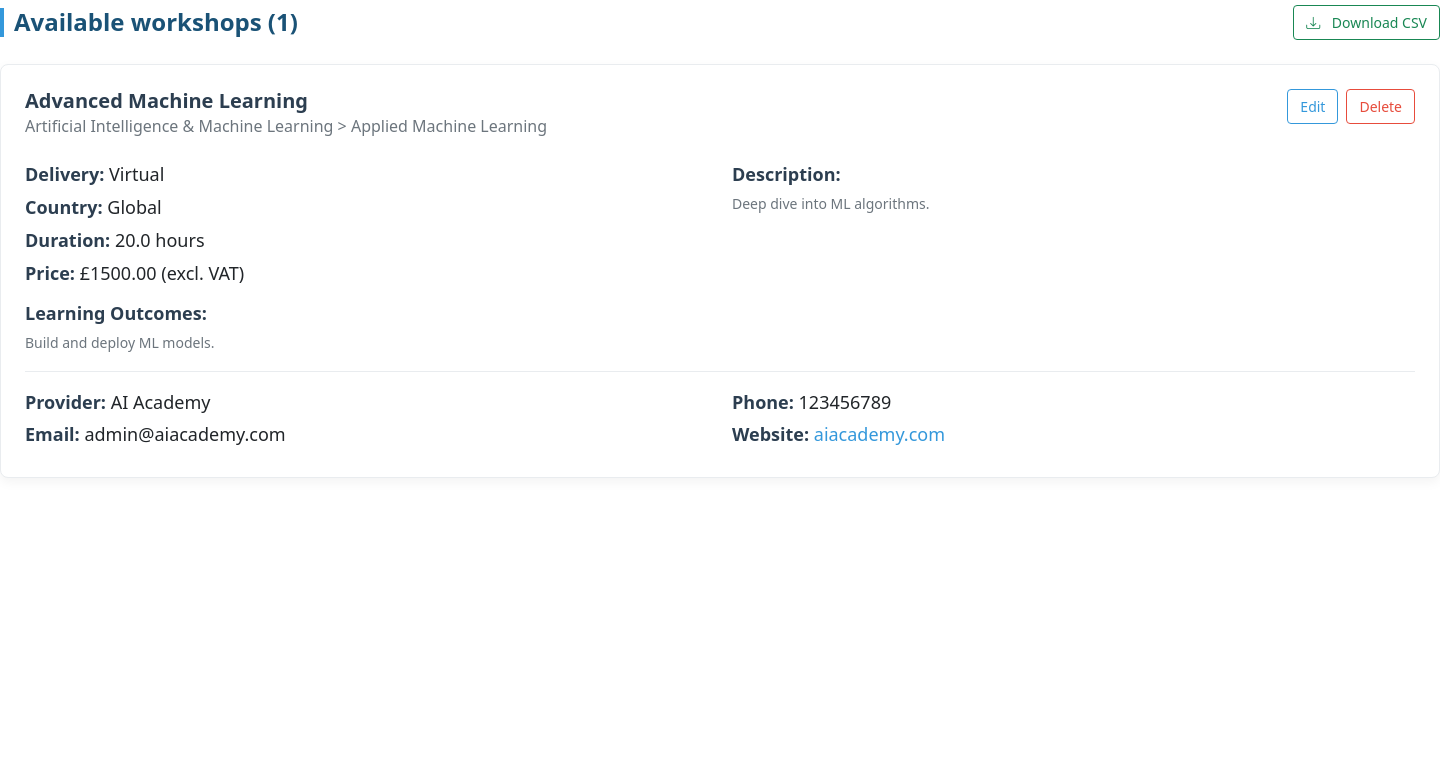
Test: CoursesAdmin Component › enters edit mode when Edit button is clicked
Expected: the heading "Available workshops (1)" is shown, [0, 8, 298, 37]
Click the button "Edit" at [1313, 106], box [1287, 89, 1338, 124]
(page scrolled)
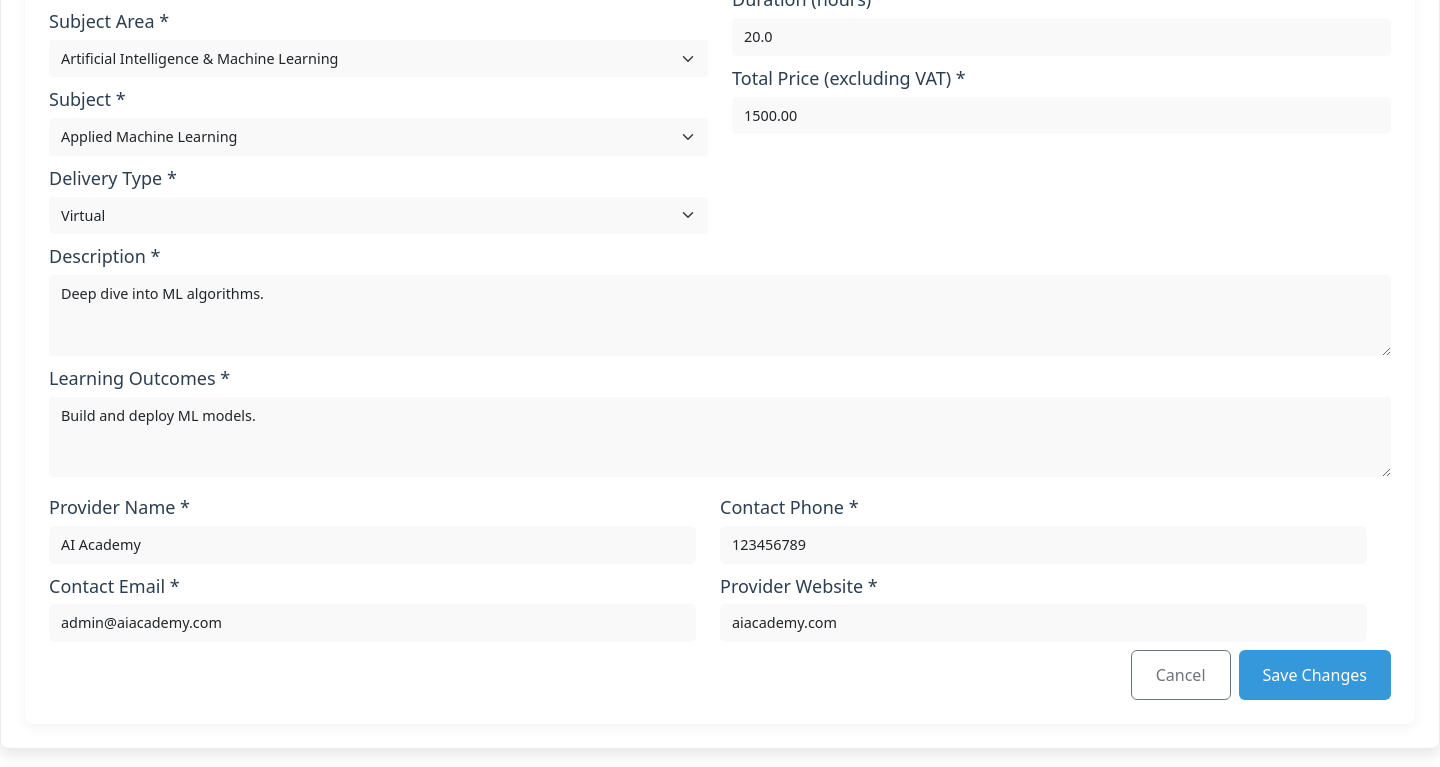
Expected: the button "Save Changes" is shown, [1238, 650, 1391, 700]
Expected: the button "Cancel" is shown, [1131, 650, 1230, 700]
